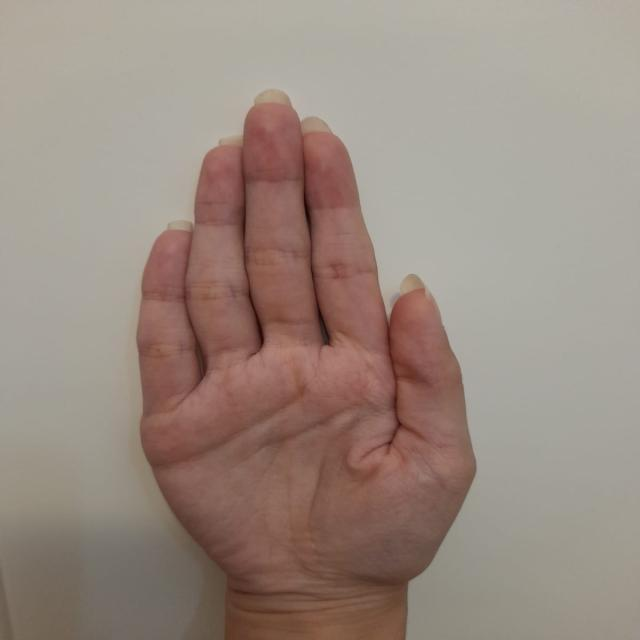Open Hand: (134, 93, 480, 593)
